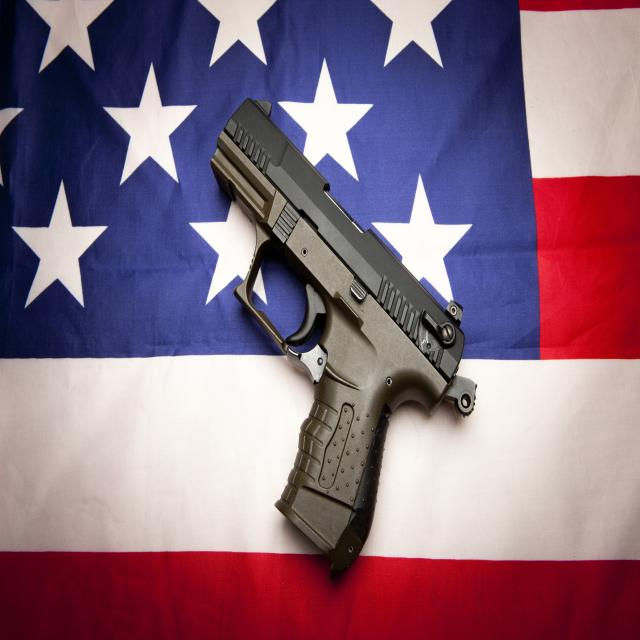HandGun: (205, 92, 481, 583)
